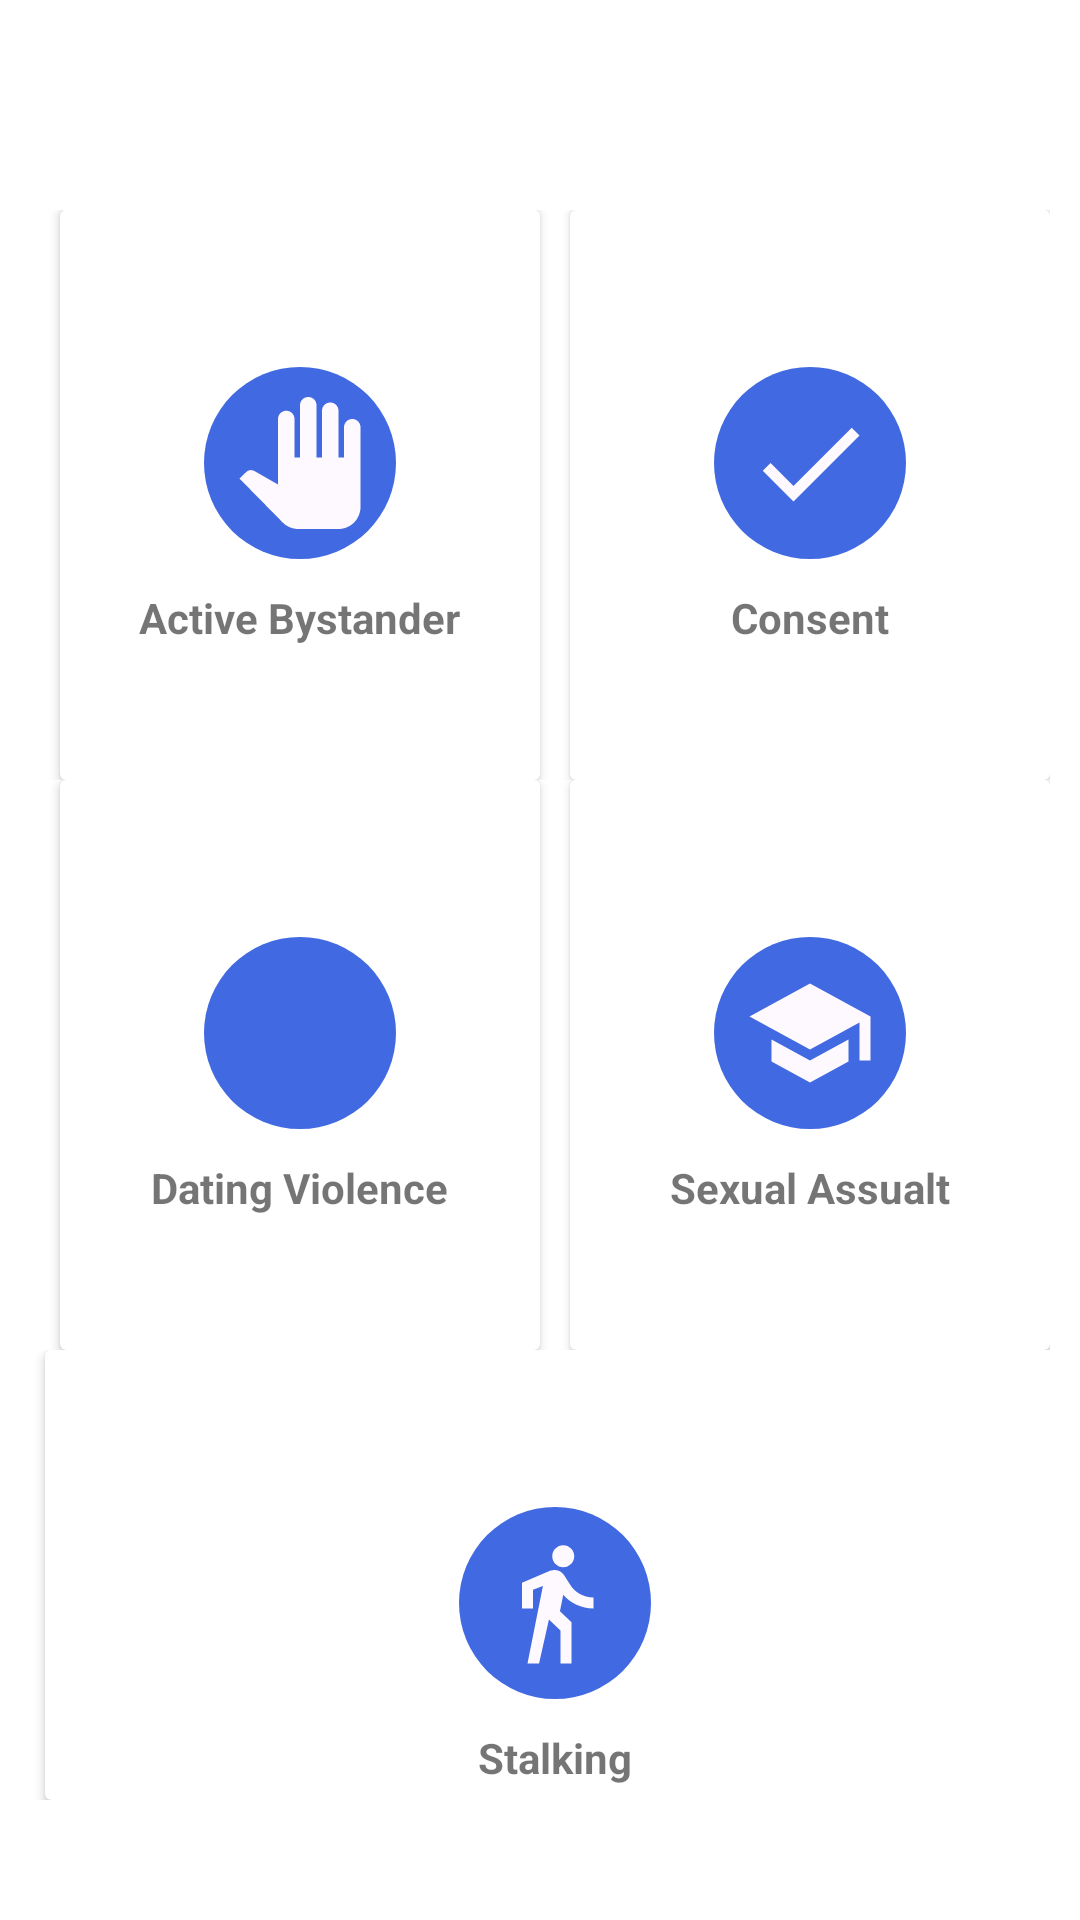

Screen size 1080x1920. Icon name, then its center in pixels as (x=x, y=y):
check: (x=810, y=463)
hand: (x=300, y=463)
school: (x=810, y=1033)
walk: (x=555, y=1603)
